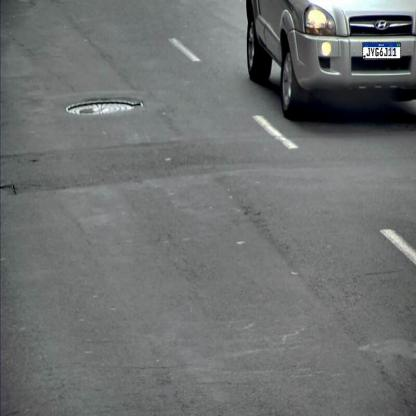PlacaM: (362, 42, 401, 59)
